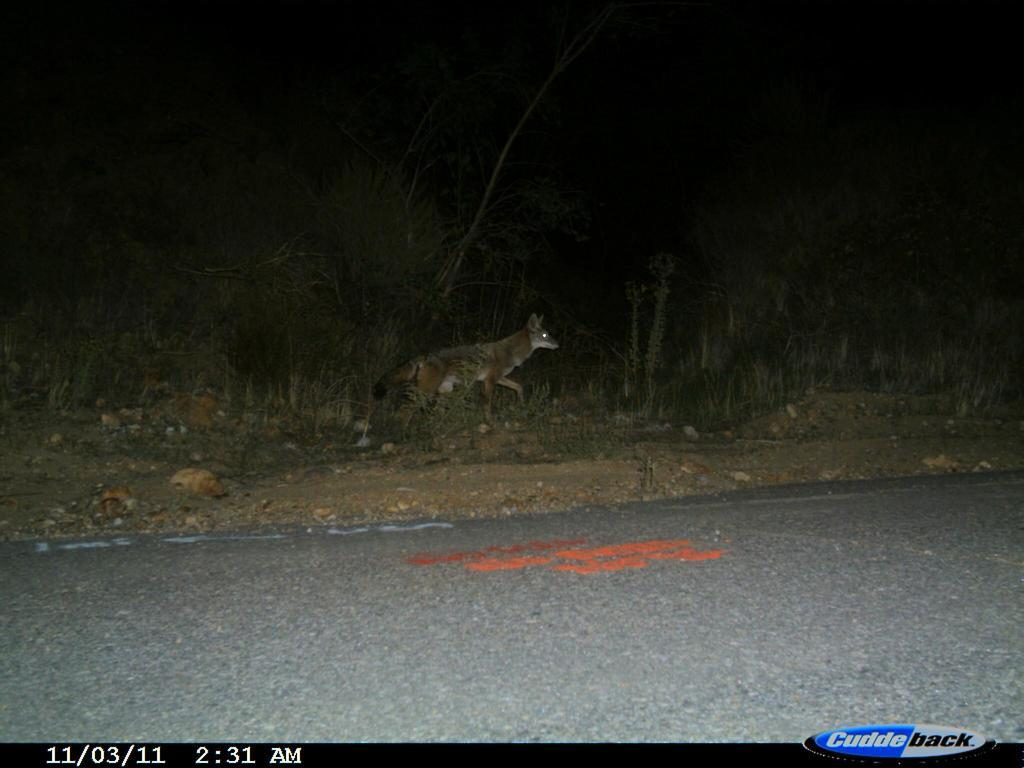coyote: (372, 309, 570, 434)
